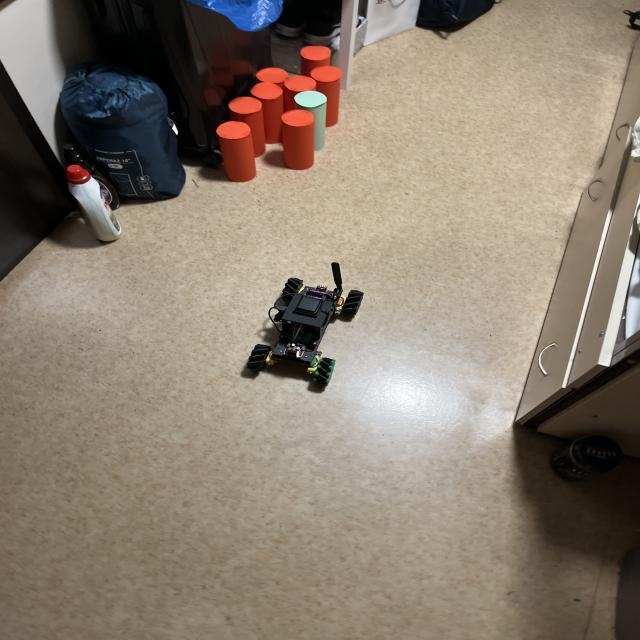robot: (247, 263, 364, 384)
